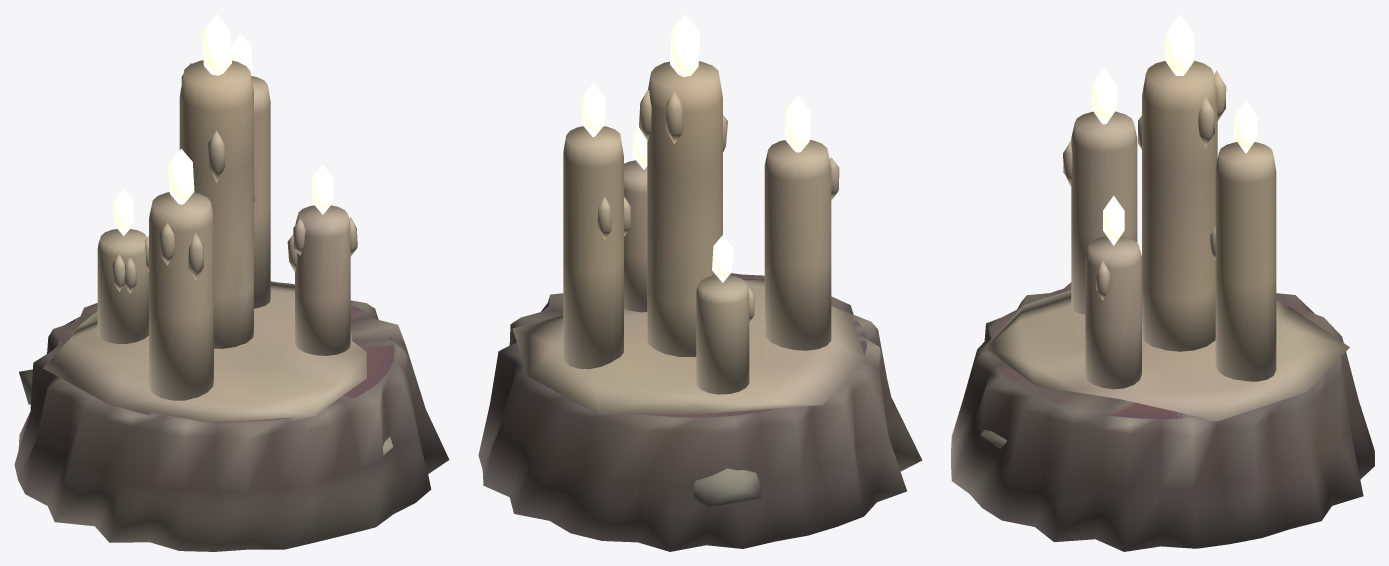
File: mum_seti.glb
3 renders of one model, left to right at view 1: azimuth 30°, elevation 25°; view 2: azimuth 150°, elevation 25°; view 3: azimuth 270°, elevation 25°, orthographic. The views are drawn at different scales.
Visible parts, largest first — view 1: mum_seti_LOD0; view 2: mum_seti_LOD0; view 3: mum_seti_LOD0.
Part boxes in pixels (x1,y1,x2,y2): mum_seti_LOD0: [14, 14, 449, 551]; mum_seti_LOD0: [478, 14, 922, 551]; mum_seti_LOD0: [951, 14, 1374, 551].
Size of what is drawn, in the model's own units: 0.4678 by 0.5196 by 0.449.
